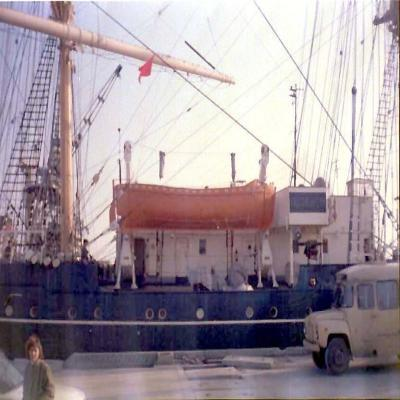photos_negatives: (3, 0, 399, 400)
